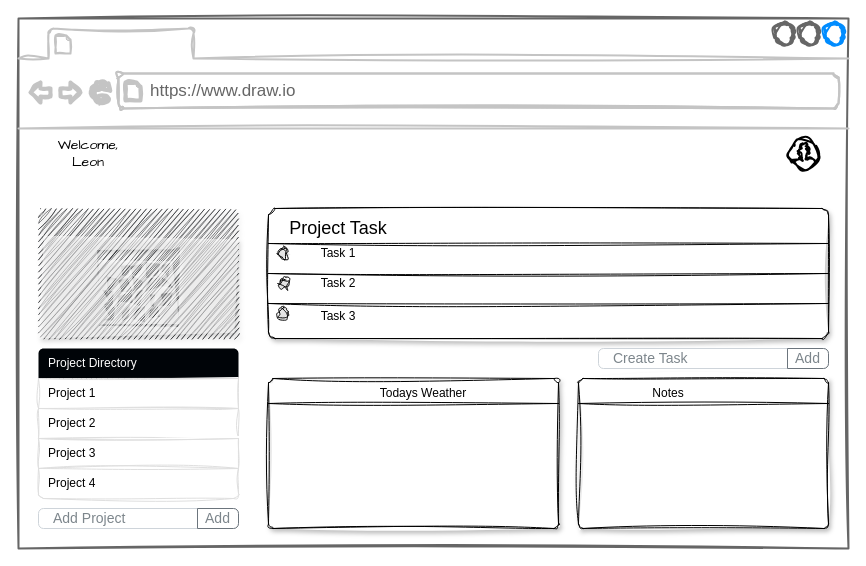
The diagram is 866 pixels wide and 566 high, and some of its shapes have lost their labels. The centre of each missing label's shape, as x and y in pixels:
"Calendar" belongs at (139,274).
"Home" belongs at (133,43).
